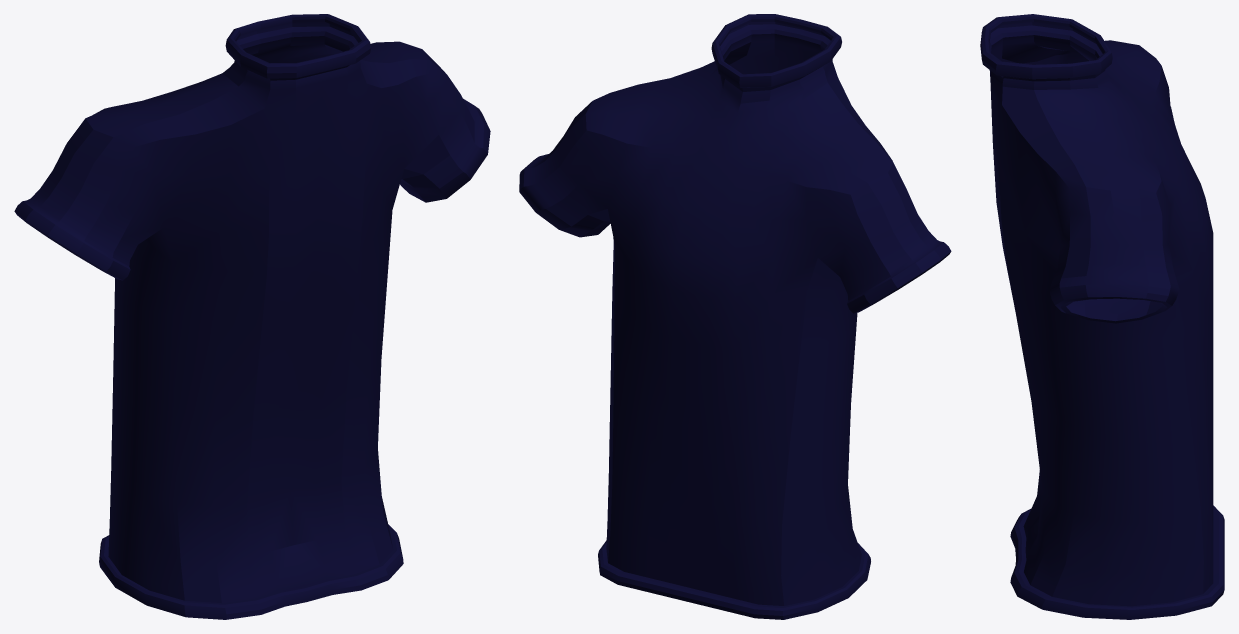
The model's file is blue tshirt.fbx.
The picture shows the model from 3 angles, left to right: view 1: azimuth 30°, elevation 25°; view 2: azimuth 150°, elevation 25°; view 3: azimuth 270°, elevation 25°; orthographic projection. The views are drawn at different scales.
Parts seen in each view (by area): view 1: menino_polySurface18_menino_polySurface53_menino_polySurface; view 2: menino_polySurface18_menino_polySurface53_menino_polySurface; view 3: menino_polySurface18_menino_polySurface53_menino_polySurface.
Part boxes in pixels (x1=…): menino_polySurface18_menino_polySurface53_menino_polySurface: x1=14, y1=14, x2=490, y2=619; menino_polySurface18_menino_polySurface53_menino_polySurface: x1=519, y1=14, x2=951, y2=619; menino_polySurface18_menino_polySurface53_menino_polySurface: x1=980, y1=14, x2=1224, y2=619.
Size of the model in its own units: 41.99 by 49.06 by 20.78.
